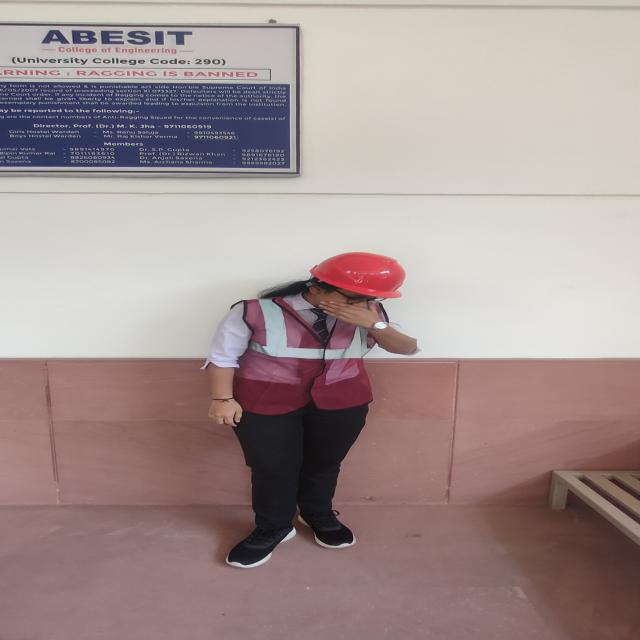safe: (213, 252, 420, 570)
